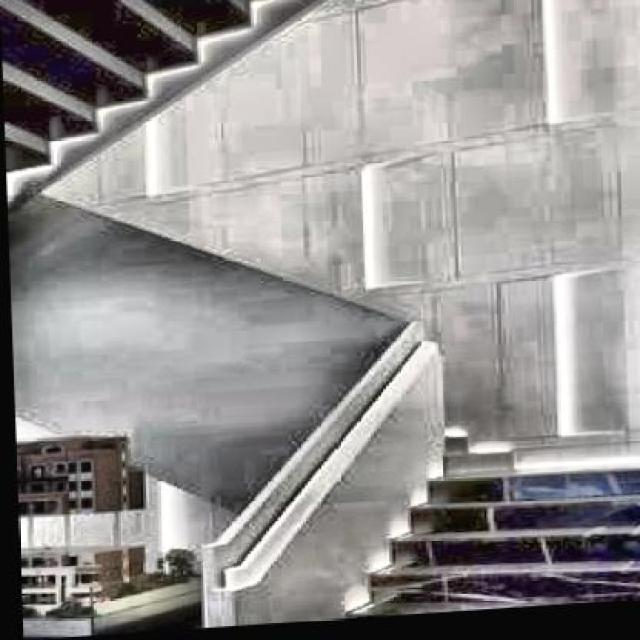stair: (378, 451, 638, 620)
